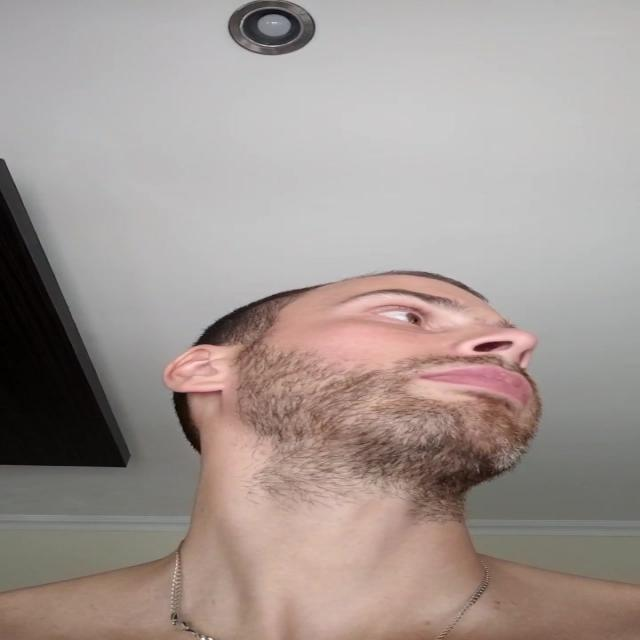earlobe: (186, 373, 220, 394)
eye: (364, 307, 432, 328)
nose: (458, 348, 526, 372)
wholeear: (162, 343, 220, 394)
